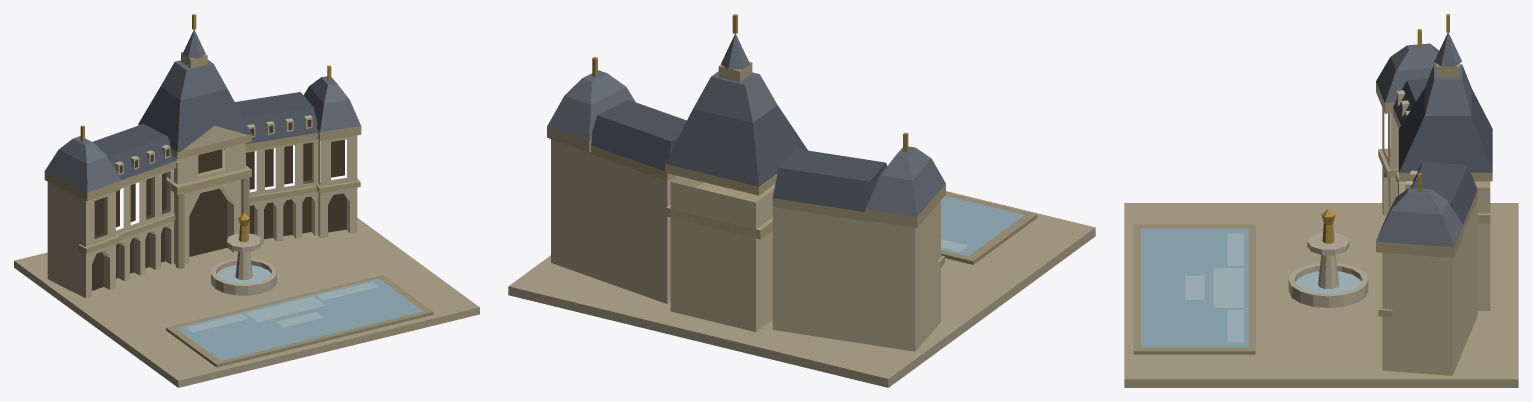
The model's file is arcades.glb.
3 renders of one model, left to right at view 1: azimuth 30°, elevation 25°; view 2: azimuth 150°, elevation 25°; view 3: azimuth 270°, elevation 25°, orthographic. The views are drawn at different scales.
Visible parts, largest first — view 1: arcades; view 2: arcades; view 3: arcades.
Boxes of the visible parts, box(x1,y1,x2,y2) form: arcades: box(14, 14, 479, 387); arcades: box(508, 14, 1095, 387); arcades: box(1124, 14, 1518, 387).
Bounding box in the file's own units: 1.78 × 1.34 × 1.68.
